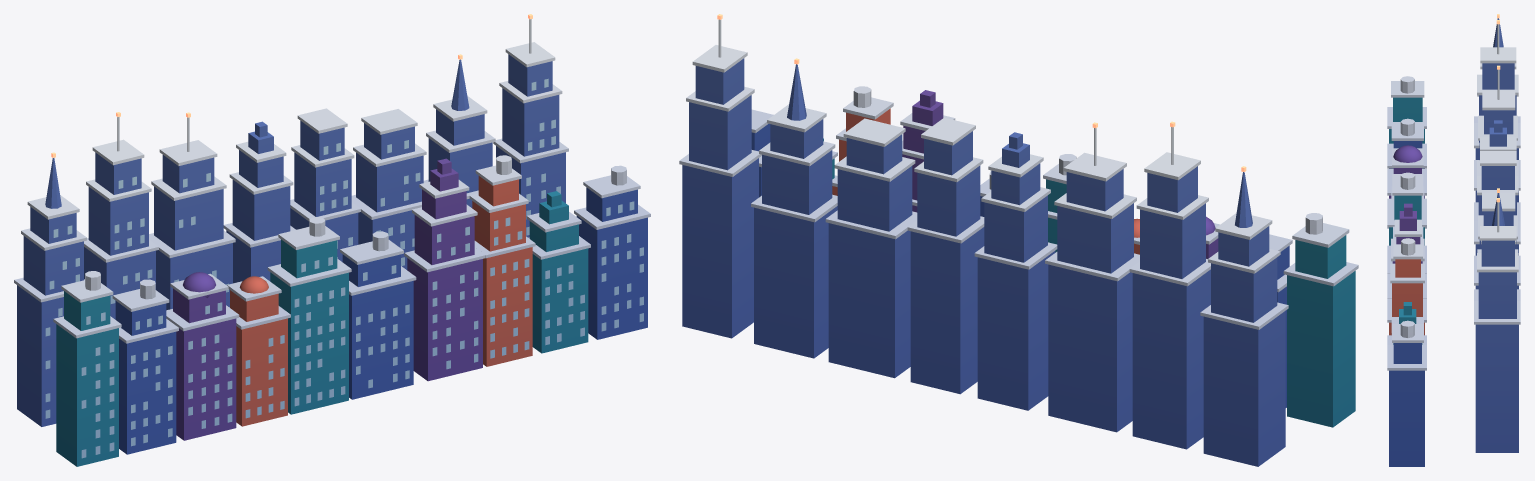
The model's file is skyline_far.glb.
The picture shows the model from 3 angles, left to right: view 1: azimuth 30°, elevation 25°; view 2: azimuth 150°, elevation 25°; view 3: azimuth 270°, elevation 25°; orthographic projection. The views are drawn at different scales.
Parts seen in each view (by area): view 1: skyline_far; view 2: skyline_far; view 3: skyline_far.
Boxes of the visible parts, bbox=[...] form: skyline_far: bbox=[14, 14, 650, 466]; skyline_far: bbox=[679, 14, 1358, 466]; skyline_far: bbox=[1387, 14, 1520, 466].
Size of the model in its own units: 80.36 by 37.8 by 18.5.
